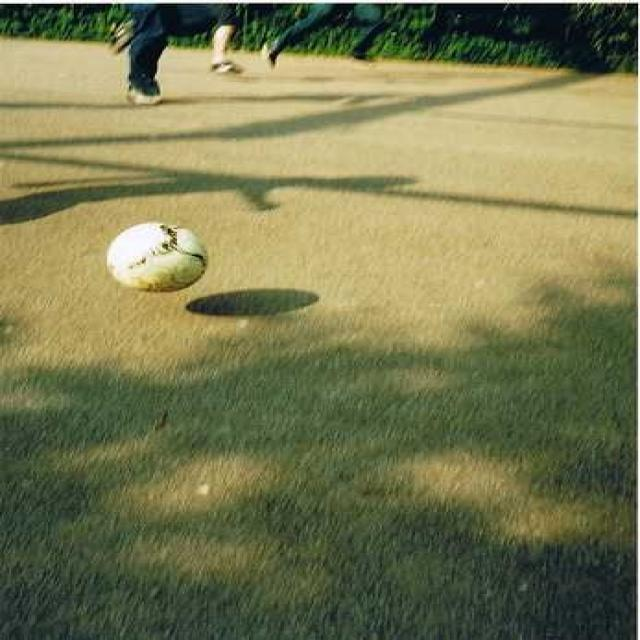ball: (108, 223, 206, 291)
